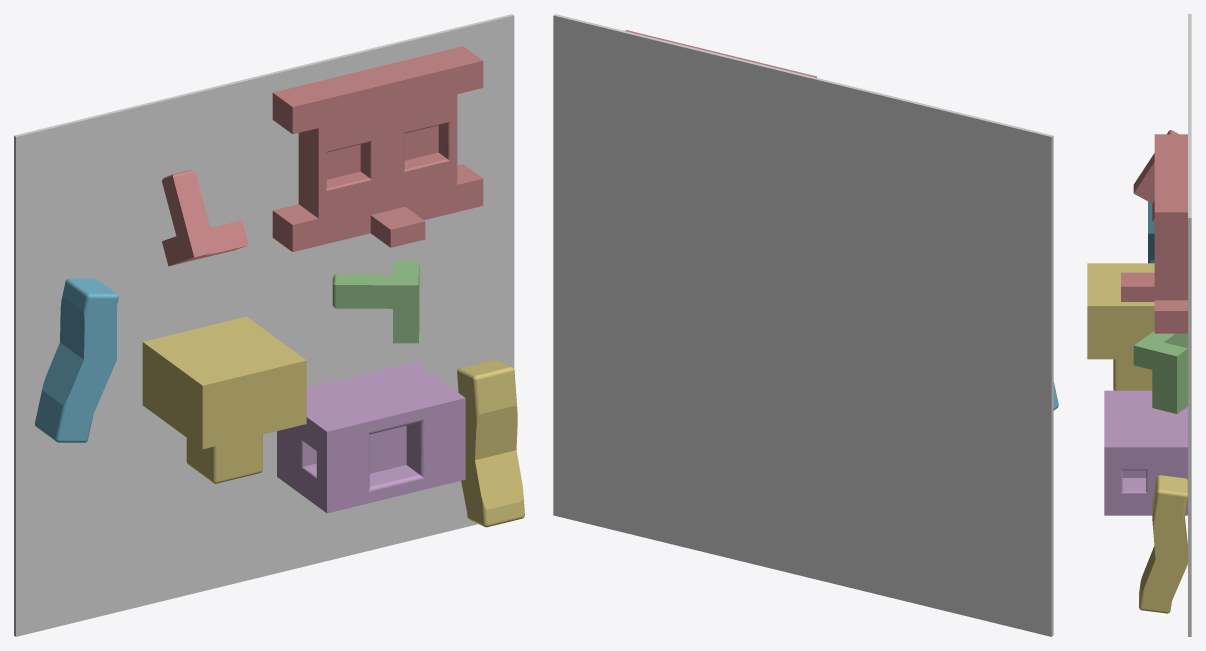
The model's file is pickup_layout.glb.
3 renders of one model, left to right at view 1: azimuth 30°, elevation 25°; view 2: azimuth 150°, elevation 25°; view 3: azimuth 270°, elevation 25°, orthographic. The views are drawn at different scales.
Parts seen in each view (by area): view 1: world, 0.obj, 3.obj, 6.obj, 2.obj, 1.obj, 5.obj, 4.obj; view 2: world; view 3: 3.obj, 0.obj, 6.obj, 1.obj, 4.obj, world, 5.obj, 2.obj.
Part boxes in pixels (x1,y1,x2,y2): world: (14, 14, 514, 636); 0.obj: (272, 46, 483, 251); 3.obj: (277, 361, 465, 513); 6.obj: (142, 316, 306, 483); 2.obj: (35, 278, 118, 442); 1.obj: (457, 359, 524, 527); 5.obj: (162, 170, 248, 266); 4.obj: (332, 260, 419, 343); world: (553, 14, 1053, 636); 3.obj: (1104, 390, 1187, 515); 0.obj: (1121, 134, 1187, 333); 6.obj: (1087, 263, 1187, 390); 1.obj: (1139, 475, 1187, 613); 4.obj: (1133, 331, 1187, 413); world: (1188, 14, 1191, 636); 5.obj: (1133, 130, 1178, 222); 2.obj: (1148, 201, 1154, 263).
Bounding box in the file's own units: 28.76 × 27.57 × 6.2.
